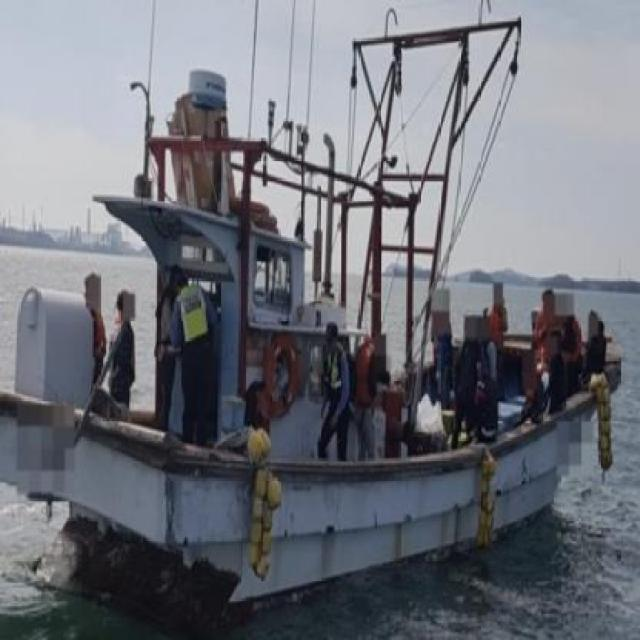Ship: (11, 127, 621, 616)
